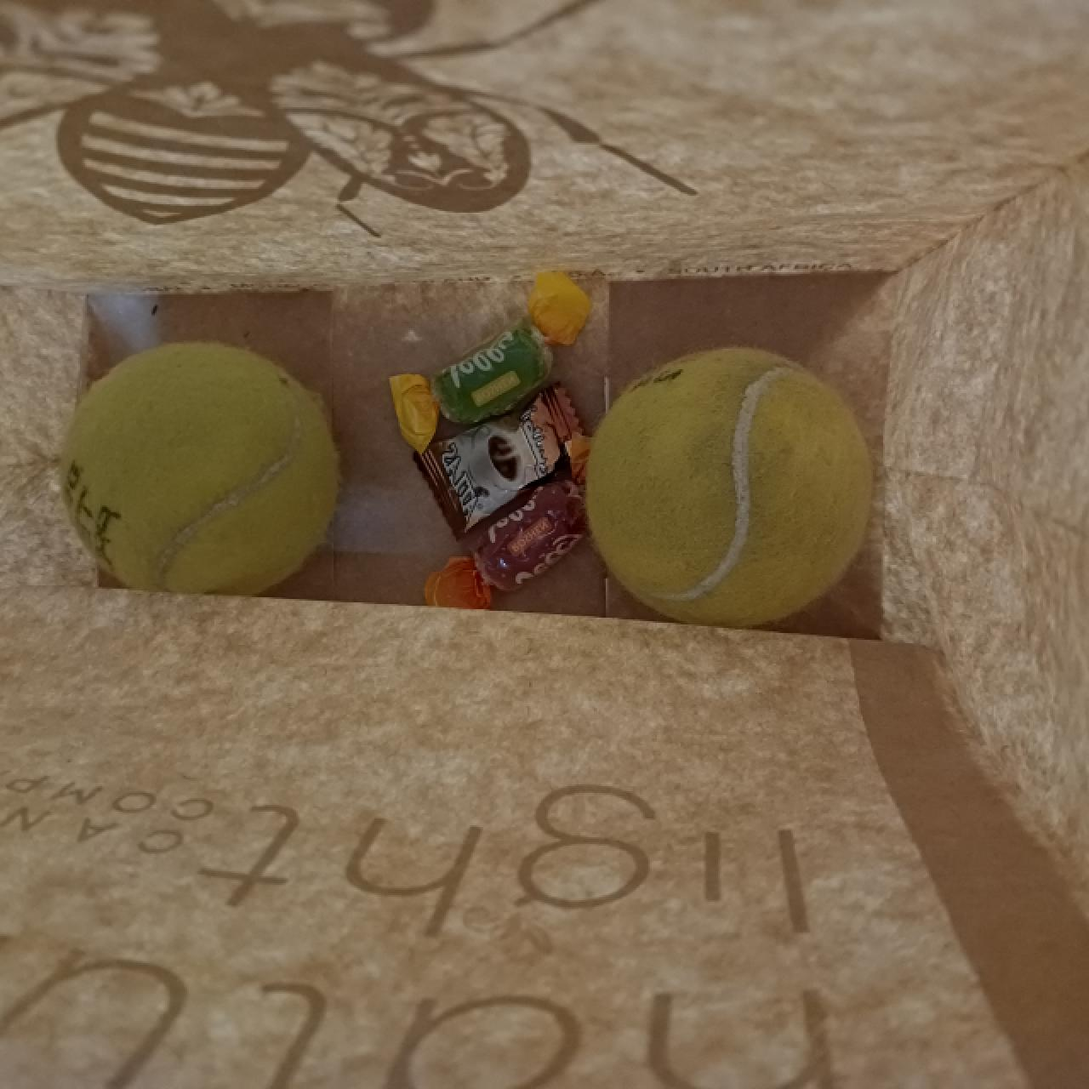tennis-ball: (577, 346, 874, 631), (57, 337, 344, 600)
